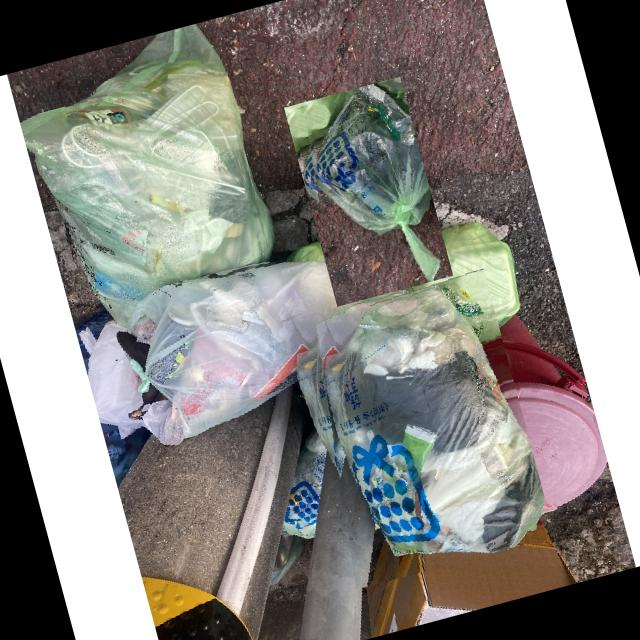general_trashbag: (317, 287, 543, 553), (311, 85, 438, 280)
